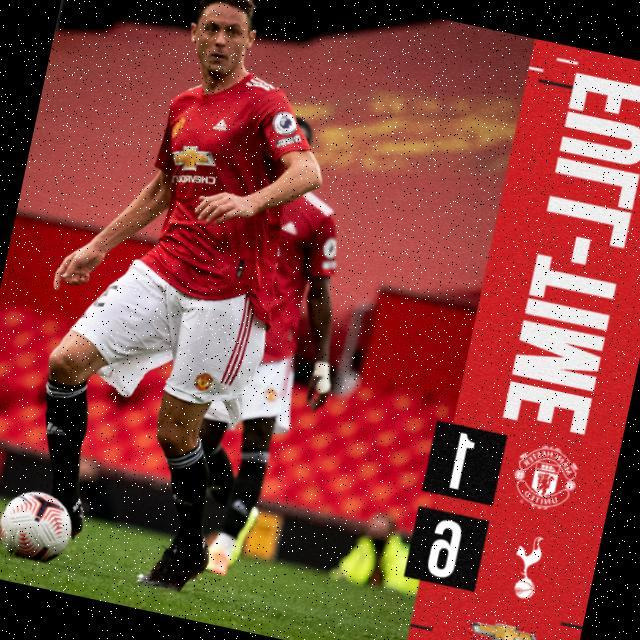Chevrolet: (163, 137, 223, 195), (460, 613, 542, 640)
